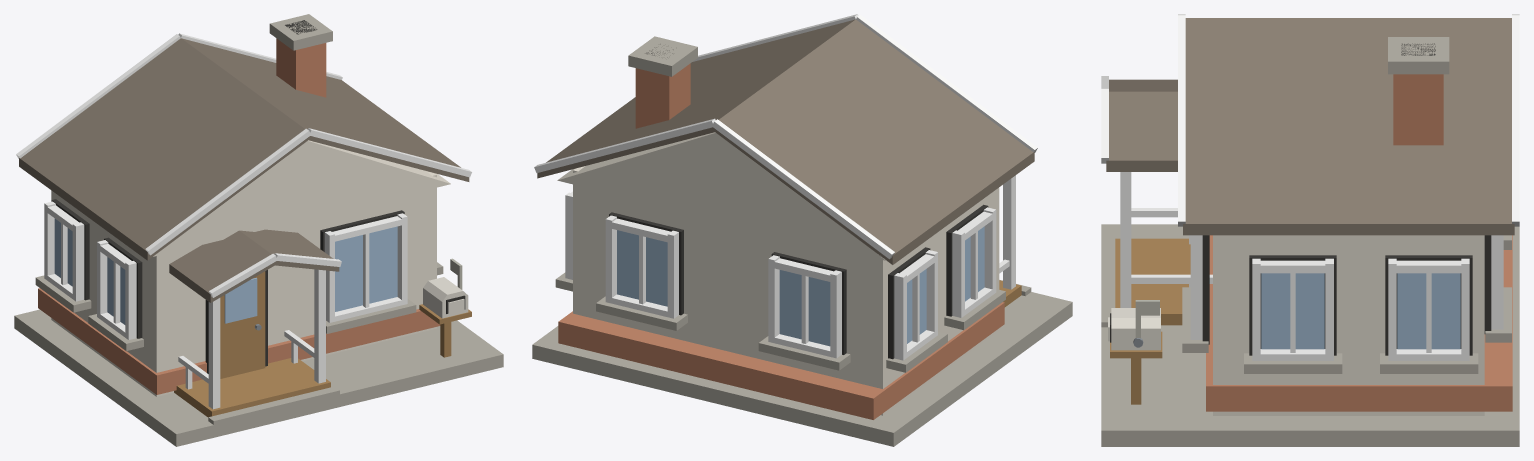
The model's file is house.glb.
The picture shows the model from 3 angles, left to right: view 1: azimuth 30°, elevation 25°; view 2: azimuth 150°, elevation 25°; view 3: azimuth 270°, elevation 25°; orthographic projection. The views are drawn at different scales.
Parts seen in each view (by area): view 1: house_structure; view 2: house_structure; view 3: house_structure, mailflag.
Part boxes in pixels (box(x1,y1,x2,y2)): house_structure: box(14, 14, 503, 446); house_structure: box(532, 14, 1072, 446); house_structure: box(1101, 14, 1519, 446); mailflag: box(1135, 300, 1159, 338).
Bounding box in the file's own units: 7 × 5.5 × 6.
